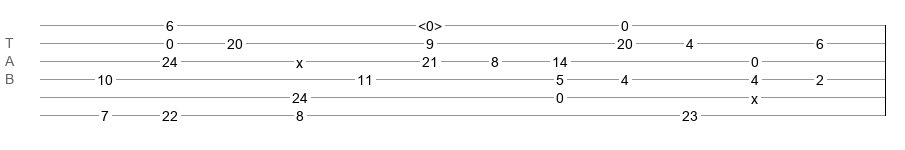0: (166, 36, 174, 46), (556, 90, 564, 100), (621, 18, 629, 28), (751, 54, 759, 64)
10: (97, 72, 113, 82)
11: (357, 72, 373, 82)
14: (552, 54, 568, 64)
2: (816, 72, 824, 82)
20: (227, 36, 243, 46), (617, 36, 633, 46)
21: (422, 54, 438, 64)
22: (162, 108, 178, 118)
23: (682, 108, 698, 118)
24: (162, 54, 178, 64), (292, 90, 308, 100)
4: (621, 72, 629, 82), (686, 36, 694, 46), (751, 72, 759, 82)
5: (556, 72, 564, 82)
6: (166, 18, 174, 28), (816, 36, 824, 46)
7: (101, 108, 109, 118)
8: (296, 108, 304, 118), (491, 54, 499, 64)
9: (426, 36, 434, 46)
harmonic: (418, 18, 442, 28)
x: (296, 55, 303, 63), (751, 91, 758, 99)
